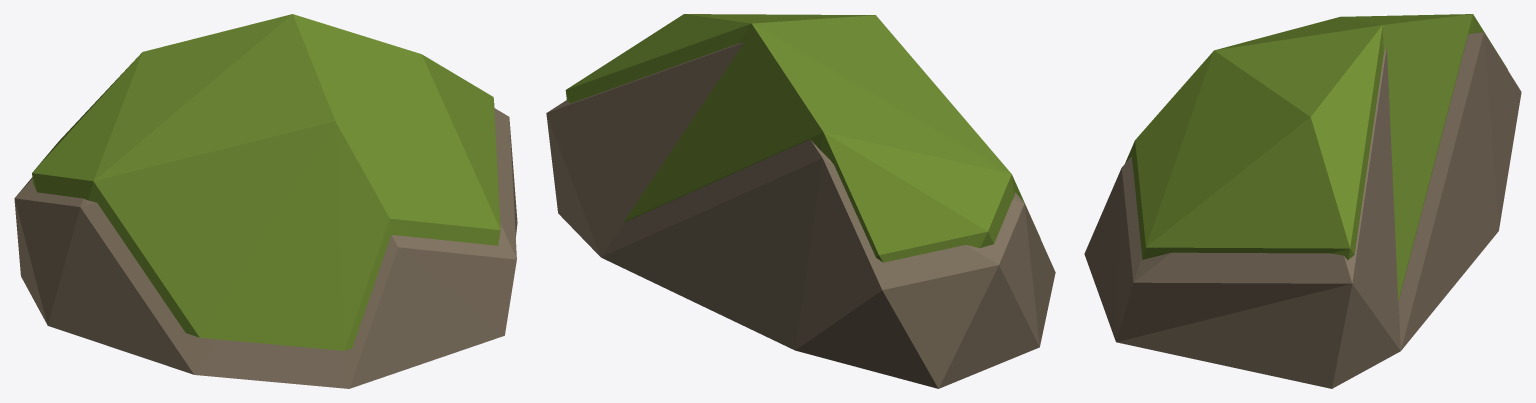
File: Stone_1_moss_brown_mat.fbx
The picture shows the model from 3 angles, left to right: view 1: azimuth 30°, elevation 25°; view 2: azimuth 150°, elevation 25°; view 3: azimuth 270°, elevation 25°; orthographic projection. The views are drawn at different scales.
Parts seen in each view (by area): view 1: Stone_1_moss_brown_mat; view 2: Stone_1_moss_brown_mat; view 3: Stone_1_moss_brown_mat.
Part boxes in pixels (<box>): Stone_1_moss_brown_mat: <box>14,14,517,388</box>; Stone_1_moss_brown_mat: <box>546,14,1055,388</box>; Stone_1_moss_brown_mat: <box>1084,14,1521,388</box>.
Size of the model in its own units: 51.15 by 27.07 by 39.42.
